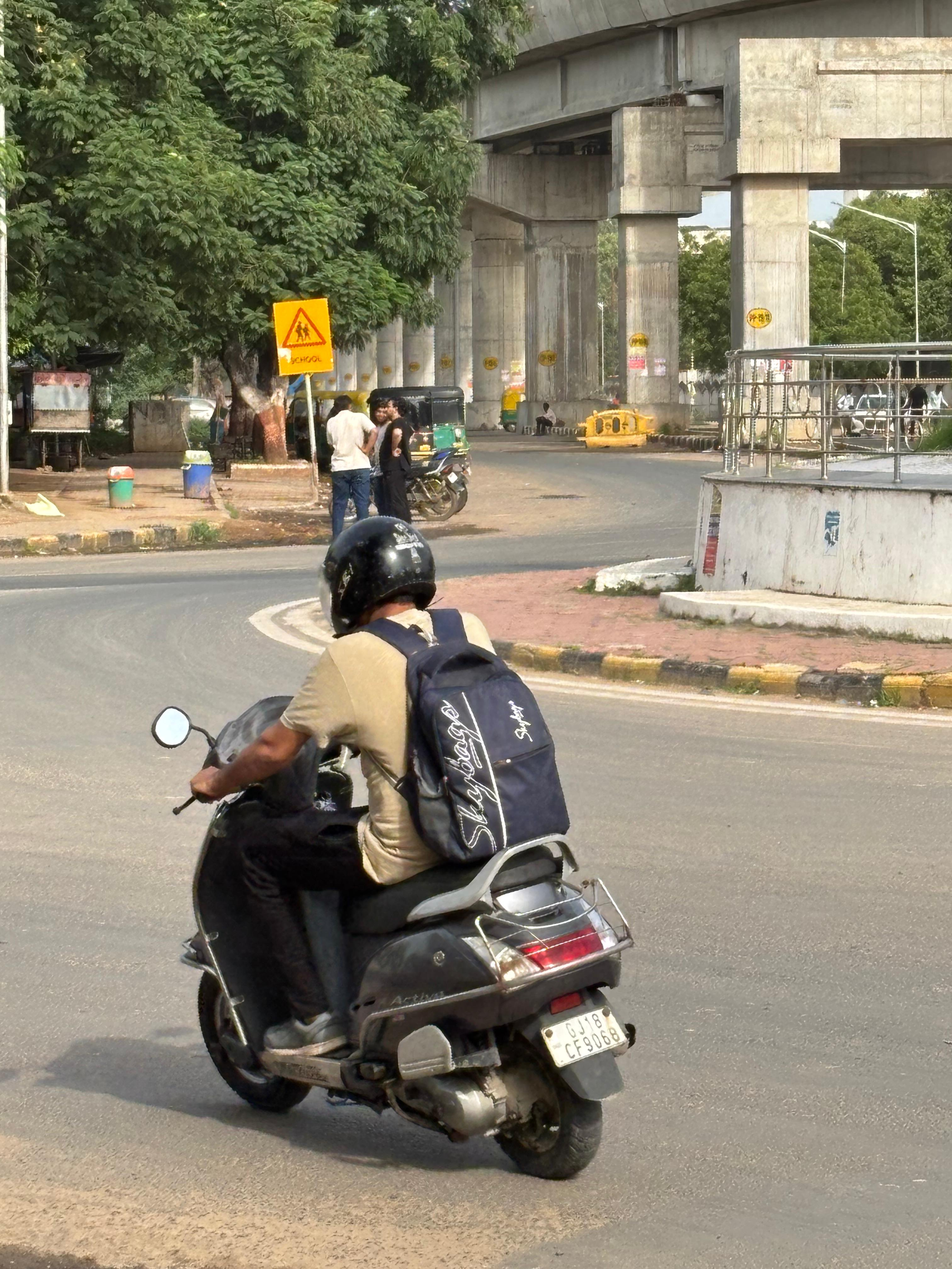BikeWithRider: (138, 507, 652, 1191)
Helmet: (308, 507, 450, 643)
